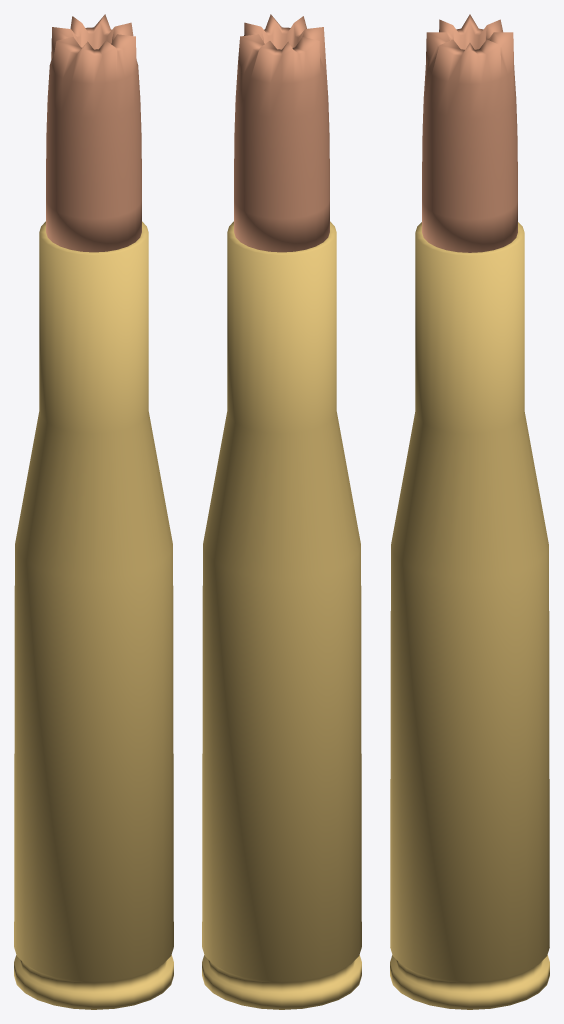
3 renders of one model, left to right at view 1: azimuth 30°, elevation 25°; view 2: azimuth 150°, elevation 25°; view 3: azimuth 270°, elevation 25°, orthographic.
Parts seen in each view (by area): view 1: vaina, bala_flor; view 2: vaina, bala_flor; view 3: vaina, bala_flor.
Boxes of the visible parts, left/top/right/bottom form: vaina: left=14, top=221, right=173, bottom=1009; bala_flor: left=46, top=14, right=141, bottom=252; vaina: left=202, top=221, right=361, bottom=1009; bala_flor: left=234, top=14, right=329, bottom=252; vaina: left=390, top=222, right=549, bottom=1009; bala_flor: left=422, top=14, right=517, bottom=252.
Bounding box in the file's own units: 0.013 × 0.0848 × 0.013.
